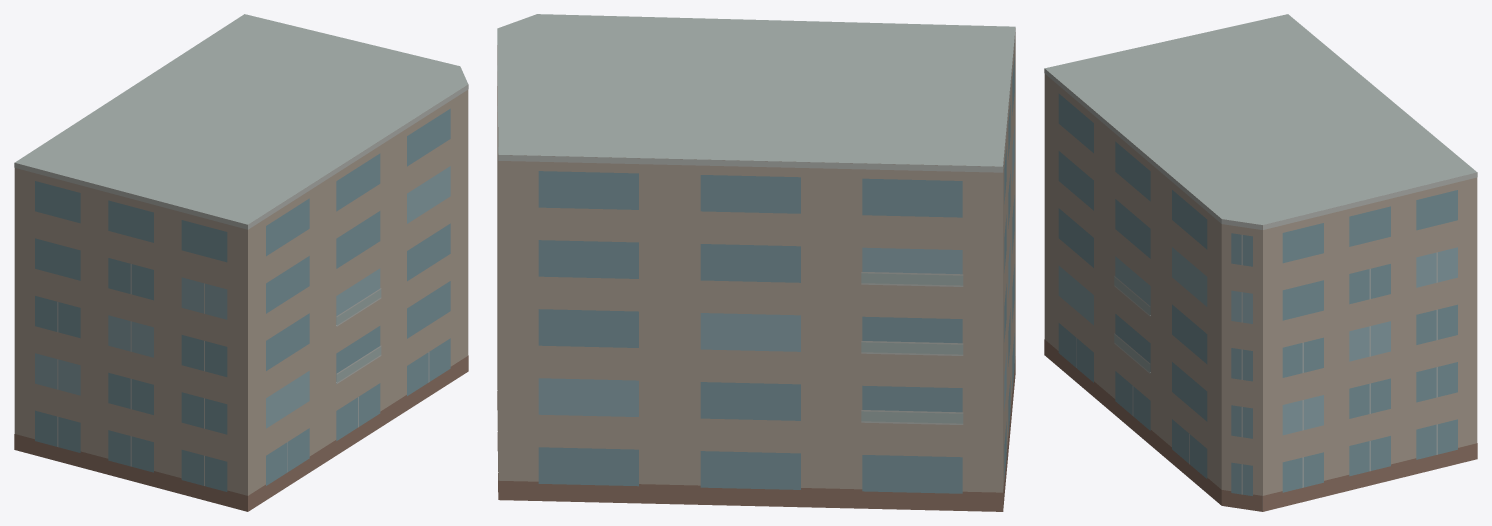
File: survey-upis-32961400.glb
3 renders of one model, left to right at view 1: azimuth 30°, elevation 25°; view 2: azimuth 150°, elevation 25°; view 3: azimuth 270°, elevation 25°, orthographic. The views are drawn at different scales.
Parts seen in each view (by area): view 1: survey-upis-32961400.tmp; view 2: survey-upis-32961400.tmp; view 3: survey-upis-32961400.tmp.
Boxes of the visible parts, box(x1,y1,x2,y2) form: survey-upis-32961400.tmp: box(14, 14, 468, 511); survey-upis-32961400.tmp: box(497, 14, 1015, 511); survey-upis-32961400.tmp: box(1044, 14, 1477, 511).
Size of the model in its own units: 21.96 by 13.9 by 19.03.
